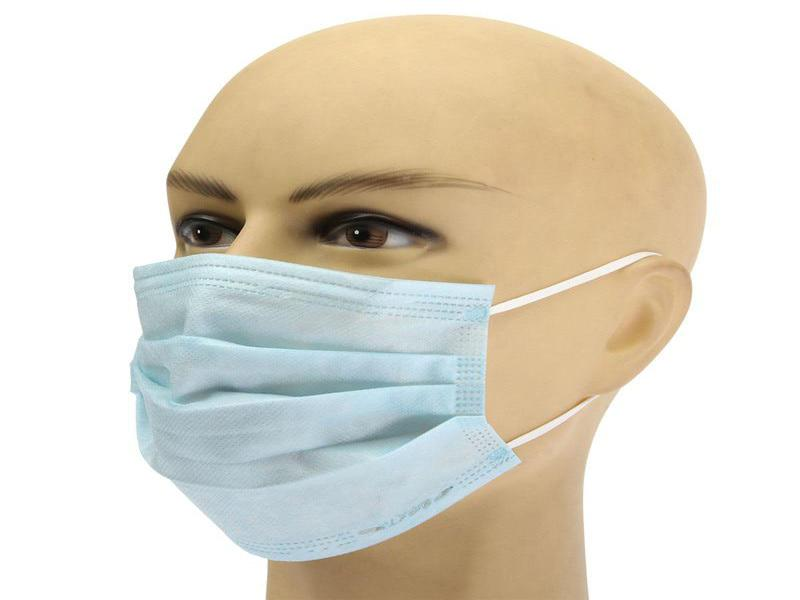with_mask: (126, 11, 700, 581)
